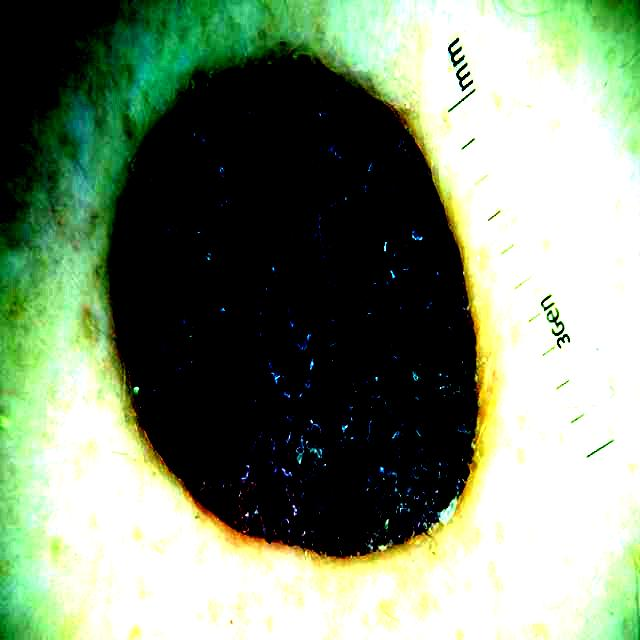BKL: (115, 63, 478, 555)
